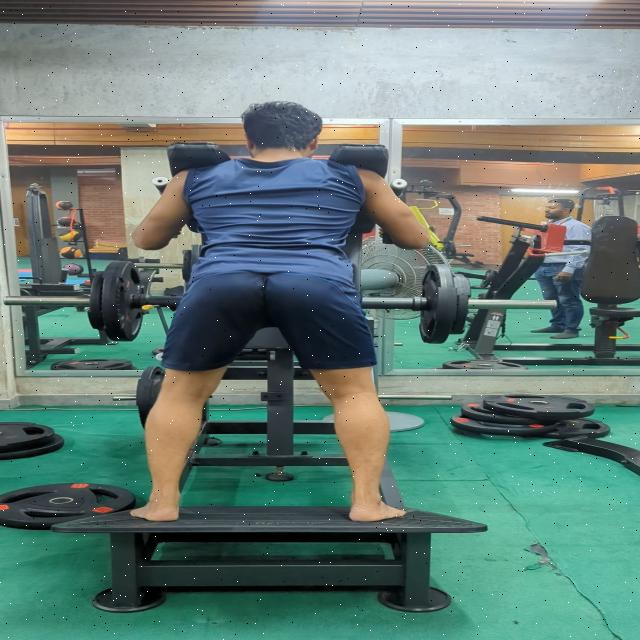Normal_SquatsWithBarbell: (105, 101, 442, 539)
